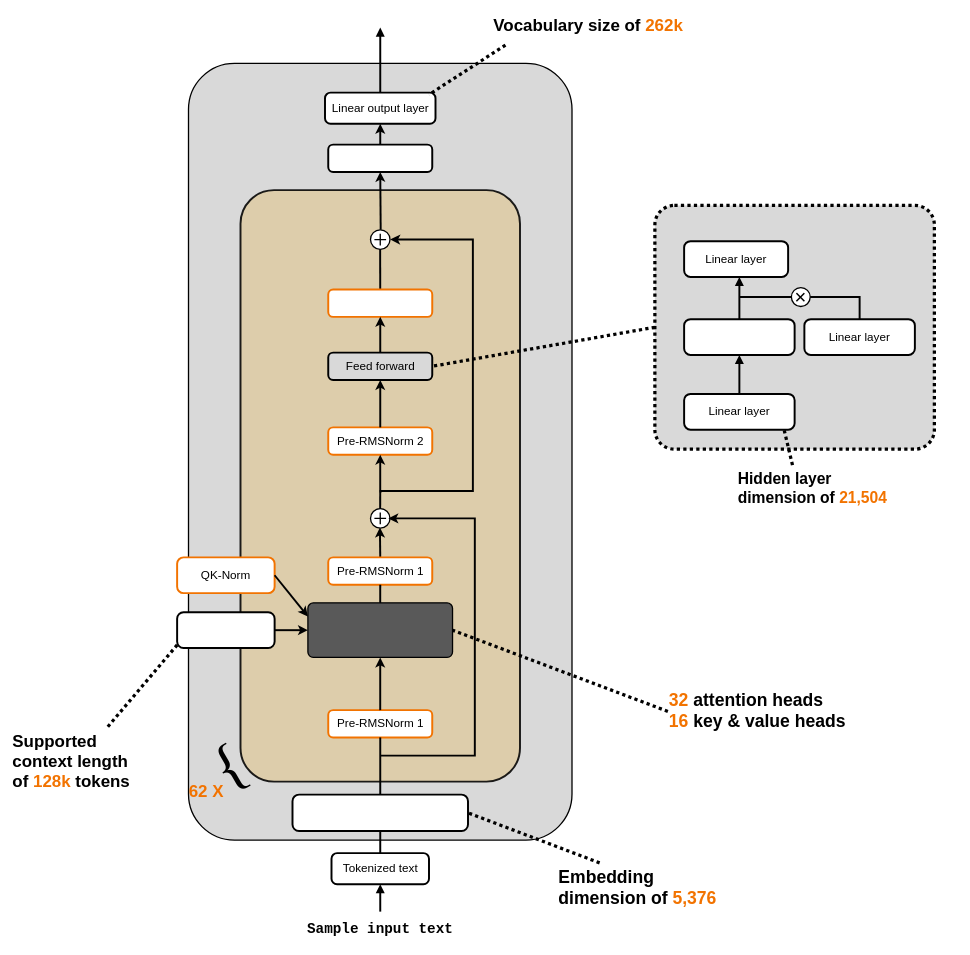
This 970x955 diagram has some shape labels left out. Here are the shapes that lost their labels. From the top down, the box of each, then its label:
(327, 143, 433, 173): Final RMSNorm
(327, 288, 433, 318): Post-RMSNorm 2
(683, 318, 795, 356): GELU activation
(176, 611, 275, 649): RoPE
(307, 602, 453, 658): 5:1 (local:global) sliding window and GQA
(291, 793, 469, 832): Token embedding layer
